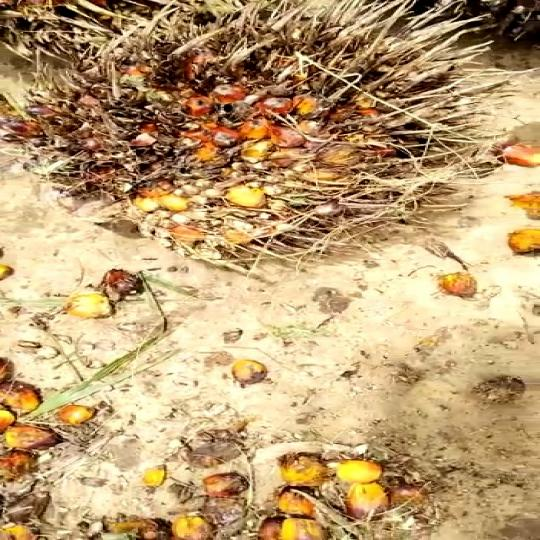terlalu masak: (0, 0, 540, 253)
